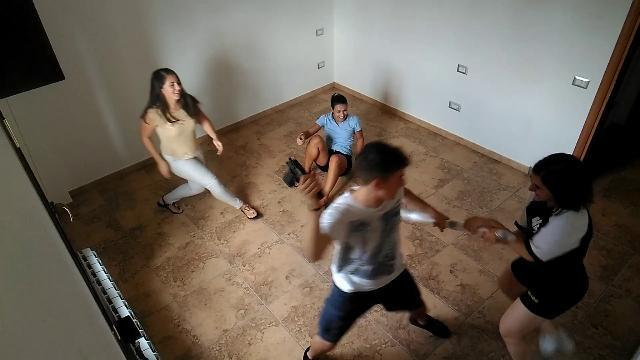non-violence: (136, 62, 260, 232)
violence: (282, 144, 606, 360), (284, 92, 372, 202)
weapon: (282, 160, 325, 201)
